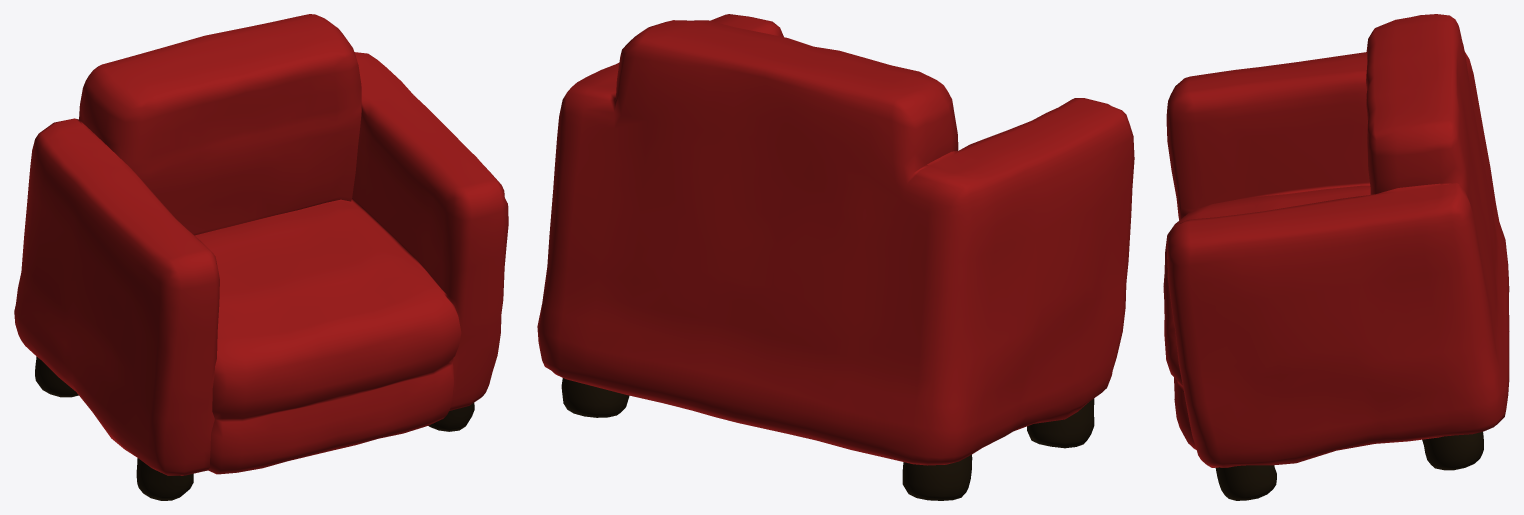
File: sofa.glb
3 views of the same model, side by side, from view 1: azimuth 30°, elevation 25°; view 2: azimuth 150°, elevation 25°; view 3: azimuth 270°, elevation 25° (orthographic). The views are drawn at different scales.
Parts seen in each view (by area): view 1: node_id30; view 2: node_id30; view 3: node_id30.
Boxes of the visible parts, x1,y1,x2,y2 form: node_id30: (14, 14, 508, 500); node_id30: (537, 14, 1134, 500); node_id30: (1163, 14, 1509, 500).
Bounding box in the file's own units: 0.512 × 0.4747 × 0.4154.
Materials: 1 (1 with a texture image).
